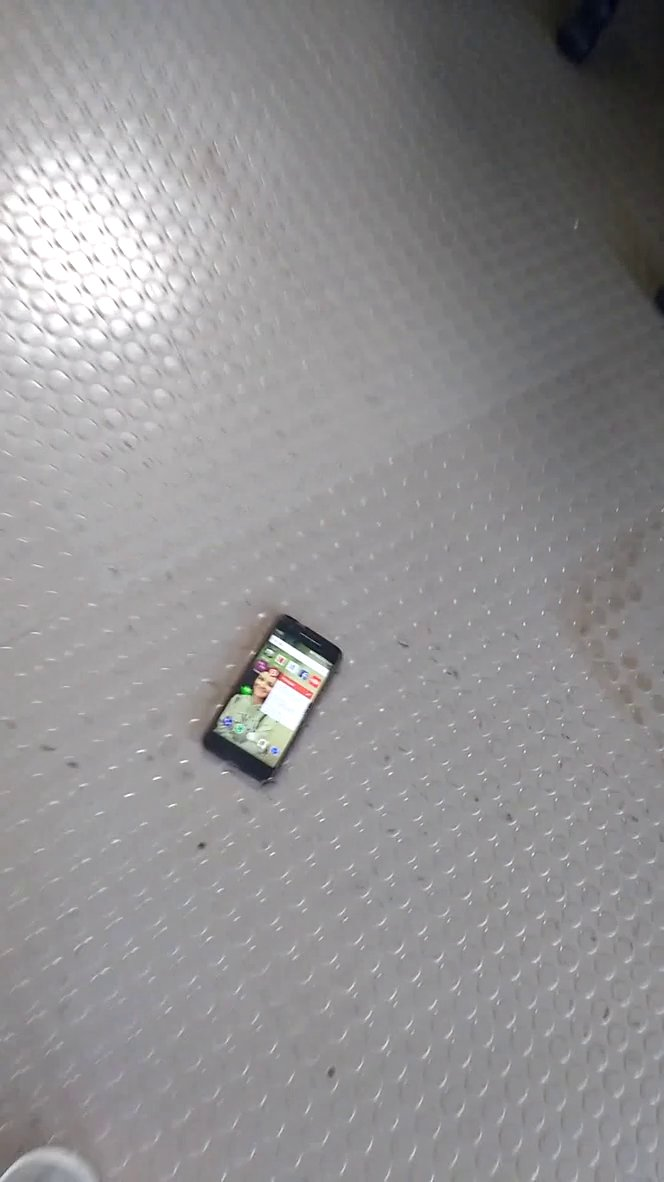phone: (185, 603, 354, 806)
